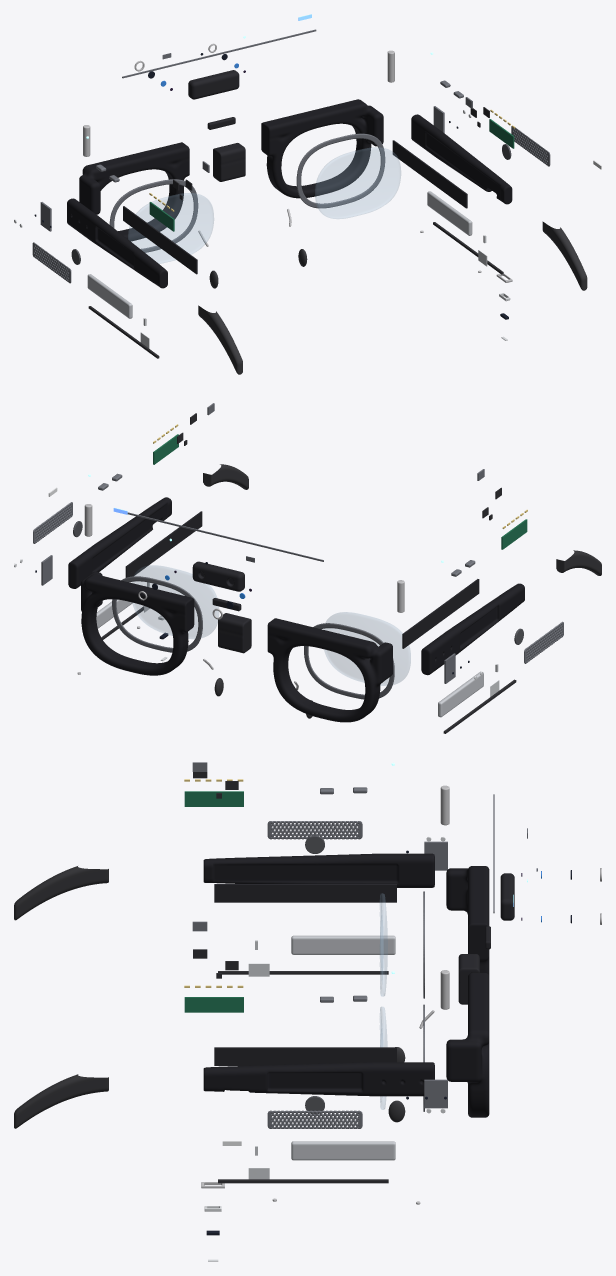
The model's file is SIGNLINK_Smart_Exploded.glb.
The picture shows the model from 3 angles, top to bottom: view 1: azimuth 30°, elevation 25°; view 2: azimuth 150°, elevation 25°; view 3: azimuth 270°, elevation 25°; orthographic projection. The views are drawn at different scales.
Visible parts, largest first — view 1: 004 | Right Polished Acetate Lens Rim, 006 | Right Clear Prescription Lens, 001 | Left Polished Acetate Lens Rim, 003 | Left Clear Prescription Lens, 034 | Left Gloss-Black Temple Outer Housing, 060 | Right Gloss-Black Temple Outer Housing, 005 | Right Lens Retaining Bezel, 062 | Right Inner Temple Service Cover, 036 | Left Inner Temple Service Cover, 007 | Integrated Sculpted Nose Bridge, 012 | Central Dual-Camera Bridge Pod, 063 | Right Soft-Touch Ear Tip (+7 smaller); view 2: 001 | Left Polished Acetate Lens Rim, 004 | Right Polished Acetate Lens Rim, 034 | Left Gloss-Black Temple Outer Housing, 060 | Right Gloss-Black Temple Outer Housing, 006 | Right Clear Prescription Lens, 003 | Left Clear Prescription Lens, 036 | Left Inner Temple Service Cover, 062 | Right Inner Temple Service Cover, 007 | Integrated Sculpted Nose Bridge, 005 | Right Lens Retaining Bezel, 012 | Central Dual-Camera Bridge Pod, 002 | Left Lens Retaining Bezel (+6 smaller); view 3: 060 | Right Gloss-Black Temple Outer Housing, 034 | Left Gloss-Black Temple Outer Housing, 004 | Right Polished Acetate Lens Rim, 036 | Left Inner Temple Service Cover, 062 | Right Inner Temple Service Cover, 001 | Left Polished Acetate Lens Rim, 075 | Right Rechargeable Lithium Battery Cell, 049 | Left Rechargeable Lithium Battery Cell, 063 | Right Soft-Touch Ear Tip, 037 | Left Soft-Touch Ear Tip, 079 | Right Acoustic Outlet Grille, 053 | Left Acoustic Outlet Grille (+7 smaller).
Boxes of the visible parts, x1,y1,x2,y2 form: 004 | Right Polished Acetate Lens Rim: (261, 99, 383, 198); 006 | Right Clear Prescription Lens: (315, 147, 400, 218); 001 | Left Polished Acetate Lens Rim: (79, 142, 189, 241); 003 | Left Clear Prescription Lens: (128, 193, 213, 263); 034 | Left Gloss-Black Temple Outer Housing: (67, 198, 167, 288); 060 | Right Gloss-Black Temple Outer Housing: (411, 114, 512, 204); 005 | Right Lens Retaining Bezel: (296, 133, 385, 208); 062 | Right Inner Temple Service Cover: (392, 140, 467, 208); 036 | Left Inner Temple Service Cover: (123, 206, 197, 274); 007 | Integrated Sculpted Nose Bridge: (213, 143, 245, 181); 012 | Central Dual-Camera Bridge Pod: (188, 70, 239, 99); 063 | Right Soft-Touch Ear Tip: (542, 221, 587, 290); 001 | Left Polished Acetate Lens Rim: (267, 618, 392, 722); 004 | Right Polished Acetate Lens Rim: (81, 571, 194, 675); 034 | Left Gloss-Black Temple Outer Housing: (421, 583, 524, 675); 060 | Right Gloss-Black Temple Outer Housing: (68, 497, 171, 588); 006 | Right Clear Prescription Lens: (131, 565, 218, 638); 003 | Left Clear Prescription Lens: (323, 612, 410, 685); 036 | Left Inner Temple Service Cover: (402, 579, 479, 648); 062 | Right Inner Temple Service Cover: (125, 511, 202, 577); 007 | Integrated Sculpted Nose Bridge: (218, 613, 251, 653); 005 | Right Lens Retaining Bezel: (112, 576, 202, 652); 012 | Central Dual-Camera Bridge Pod: (192, 561, 244, 591); 002 | Left Lens Retaining Bezel: (304, 623, 394, 699); 060 | Right Gloss-Black Temple Outer Housing: (203, 1062, 434, 1096); 034 | Left Gloss-Black Temple Outer Housing: (203, 853, 434, 887); 004 | Right Polished Acetate Lens Rim: (446, 972, 489, 1117); 036 | Left Inner Temple Service Cover: (214, 884, 396, 902); 062 | Right Inner Temple Service Cover: (214, 1047, 396, 1065); 001 | Left Polished Acetate Lens Rim: (446, 866, 489, 975); 075 | Right Rechargeable Lithium Battery Cell: (291, 1141, 395, 1160); 049 | Left Rechargeable Lithium Battery Cell: (291, 935, 395, 954); 063 | Right Soft-Touch Ear Tip: (14, 1074, 108, 1128); 037 | Left Soft-Touch Ear Tip: (14, 866, 108, 920); 079 | Right Acoustic Outlet Grille: (267, 1110, 362, 1128); 053 | Left Acoustic Outlet Grille: (267, 821, 362, 839).
Size of the model in its own units: 0.31 by 0.1465 by 0.248.
